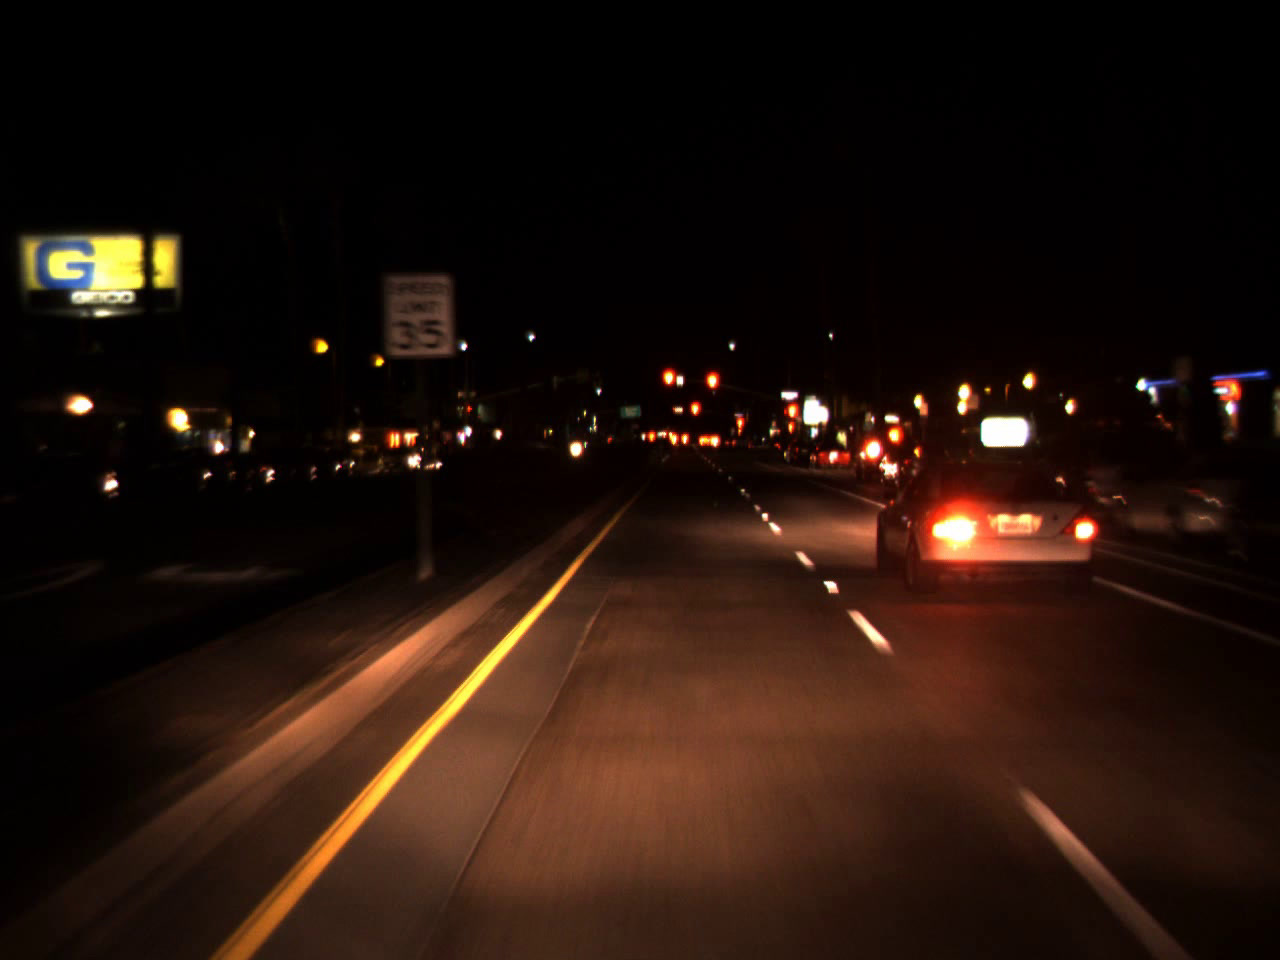stop: (659, 366, 678, 403), (703, 369, 720, 409), (689, 400, 701, 432), (735, 415, 745, 447), (787, 404, 797, 425)
